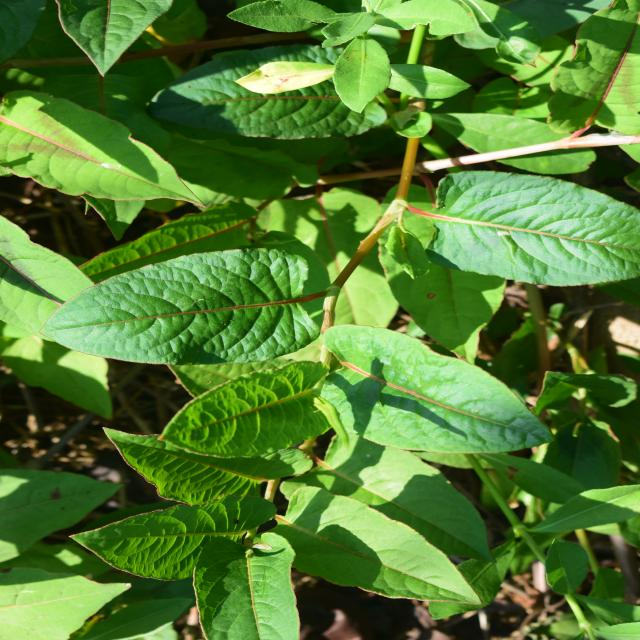Chinese_knotweed: (133, 38, 399, 503)
